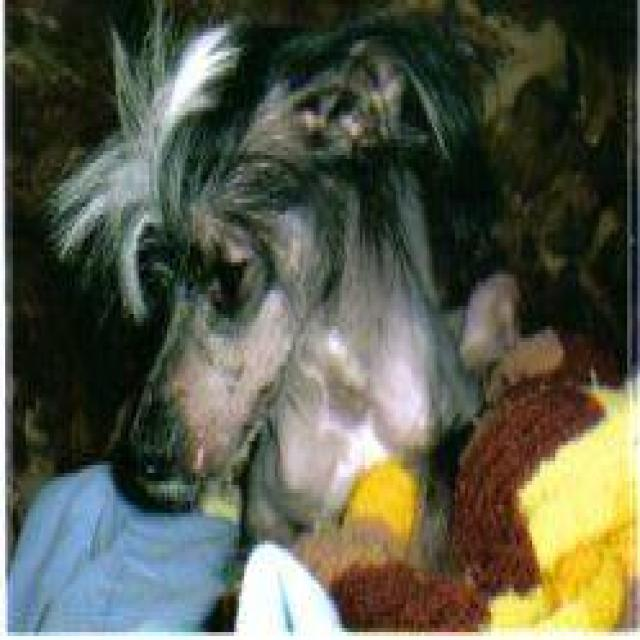Dog: (87, 18, 456, 524)
